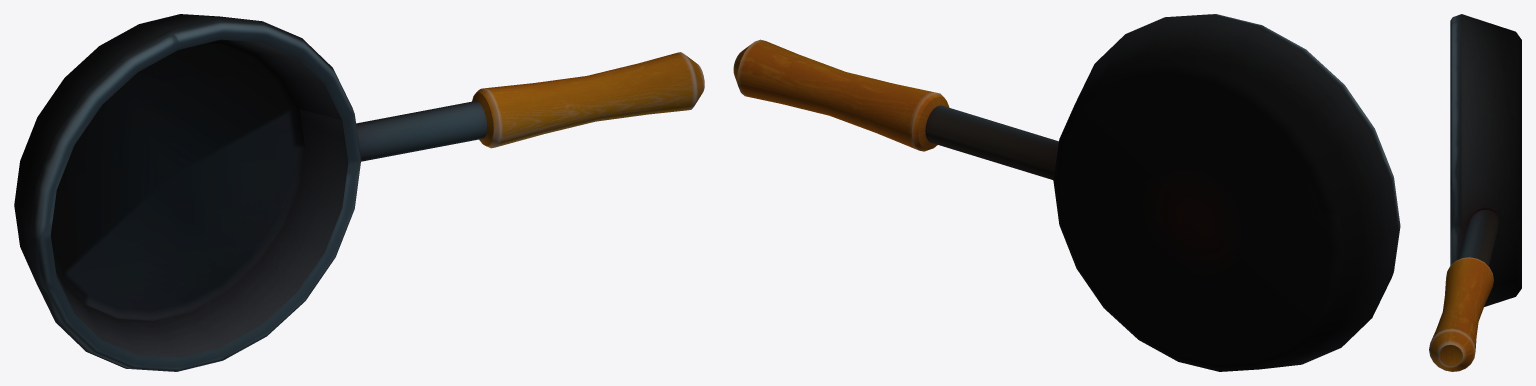
The model's file is Sartenn.obj.
3 renders of one model, left to right at view 1: azimuth 30°, elevation 25°; view 2: azimuth 150°, elevation 25°; view 3: azimuth 270°, elevation 25°, orthographic. The views are drawn at different scales.
Parts seen in each view (by area): view 1: obj1; view 2: obj1; view 3: obj1.
Boxes of the visible parts, left/top/right/bottom form: obj1: left=14, top=14, right=704, bottom=371; obj1: left=733, top=14, right=1400, bottom=371; obj1: left=1429, top=14, right=1521, bottom=371.
Bounding box in the file's own units: 0.393 × 0.1933 × 0.0604.
Materials: 1 (1 with a texture image).
